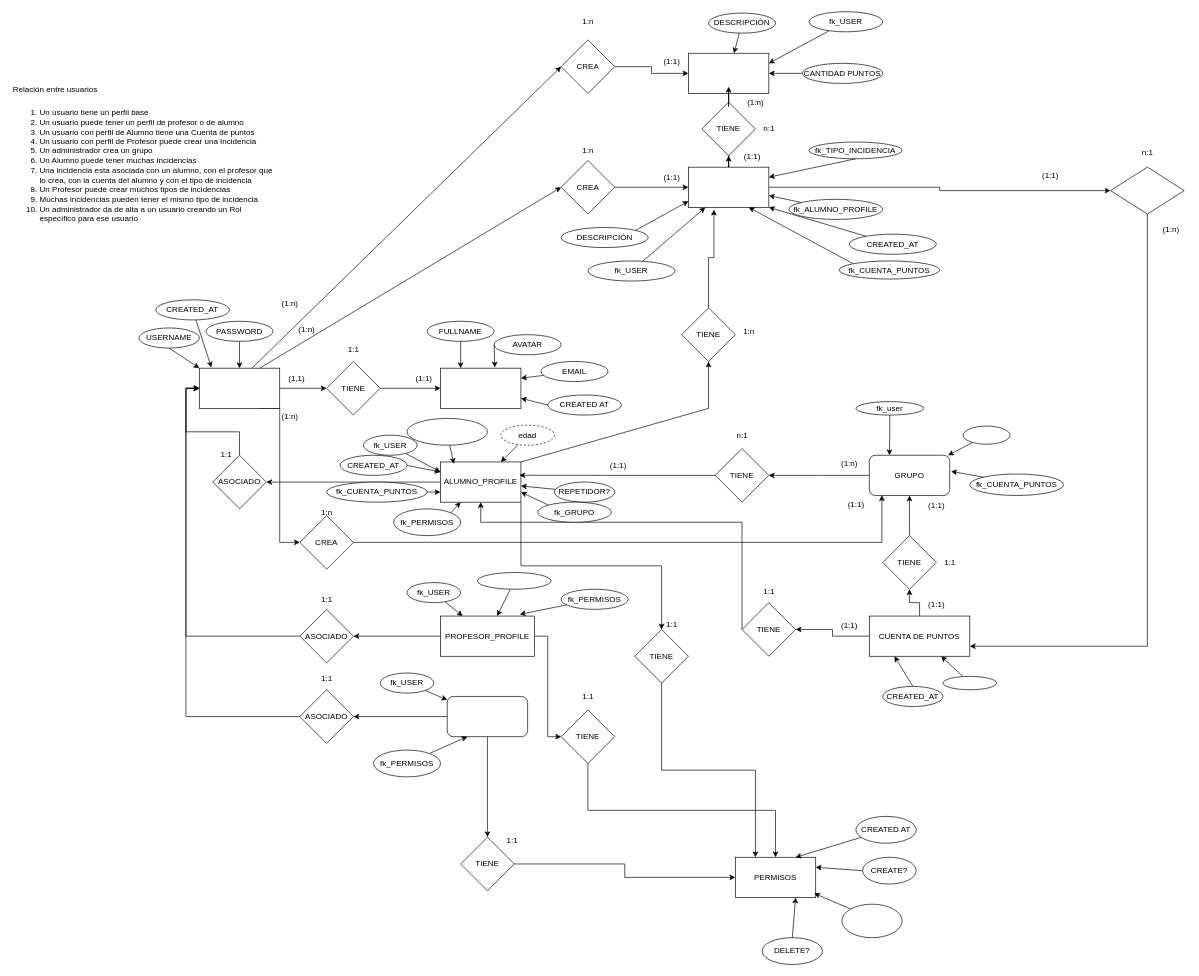
This 1199x976 diagram has some shape labels left out. Each missing label, with the box of its shape:
ADMIN_PROFILE: (447, 696, 528, 737)
CANTIDAD: (942, 676, 997, 690)
FECHA_NACIMIENTO: (406, 418, 487, 445)
INCIDENCIA: (688, 166, 769, 207)
MATERIA: (477, 572, 551, 589)
NOMBRE: (962, 425, 1010, 444)
PROFILE: (440, 367, 521, 408)
RESTA PUNTOS: (1110, 166, 1184, 214)
TIPO_INCIDENCIA: (688, 53, 769, 93)
UPDATE?: (841, 903, 902, 938)
USER: (199, 367, 280, 408)
